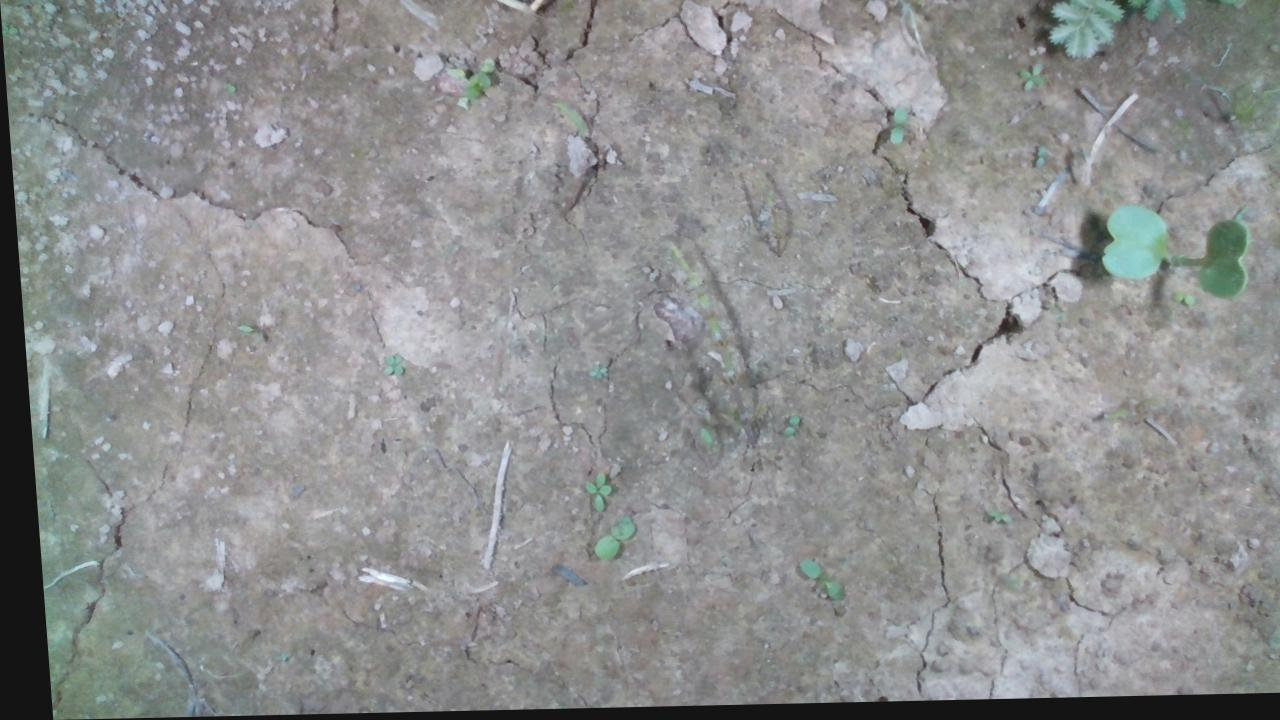weed: (787, 559, 838, 607), (582, 516, 628, 564), (575, 473, 606, 514), (883, 106, 907, 150), (1013, 65, 1045, 97), (374, 352, 399, 378), (774, 416, 795, 442), (1164, 295, 1189, 312)
